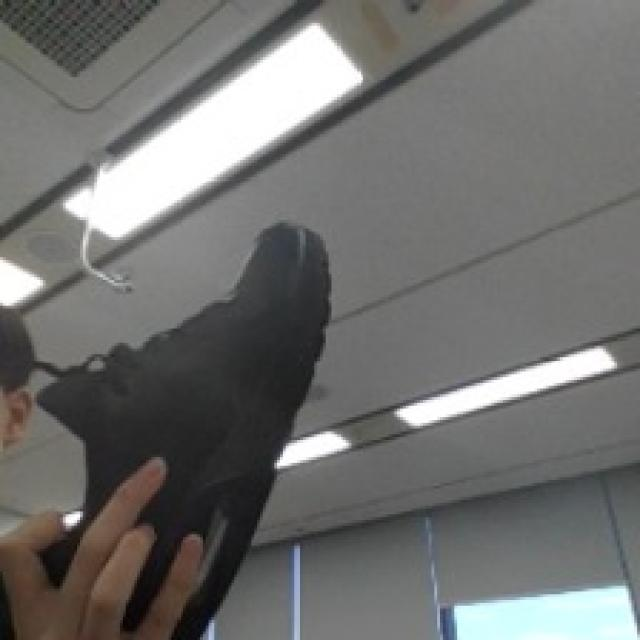shoe: (29, 214, 368, 639)
